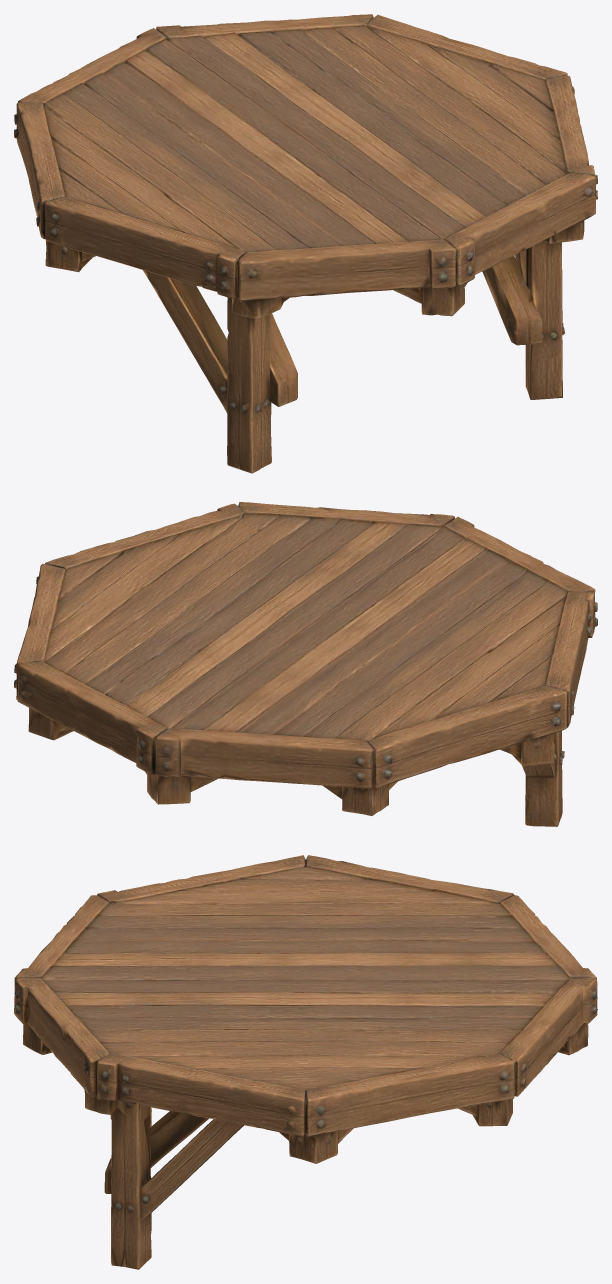
3 renders of one model, top to bottom at view 1: azimuth 30°, elevation 25°; view 2: azimuth 150°, elevation 25°; view 3: azimuth 270°, elevation 25°, orthographic. The views are drawn at different scales.
Visible parts, largest first — view 1: tripo_node_e593172d-343e-417c-ba8c-4702267ac85e; view 2: tripo_node_e593172d-343e-417c-ba8c-4702267ac85e; view 3: tripo_node_e593172d-343e-417c-ba8c-4702267ac85e.
Boxes of the visible parts, <box> form: tripo_node_e593172d-343e-417c-ba8c-4702267ac85e: <box>14,14,597,473</box>; tripo_node_e593172d-343e-417c-ba8c-4702267ac85e: <box>14,502,597,826</box>; tripo_node_e593172d-343e-417c-ba8c-4702267ac85e: <box>14,855,597,1269</box>.
Size of the model in its own units: 0.9989 by 0.4102 by 1.
Materials: 1 (1 with a texture image).
